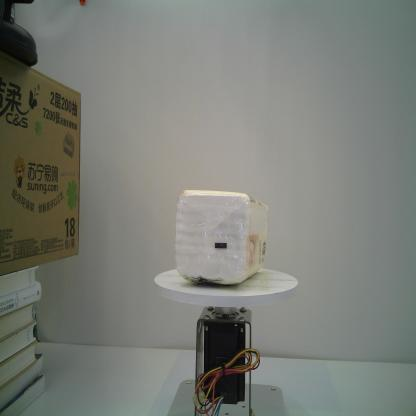Tissue: (173, 188, 270, 286)
